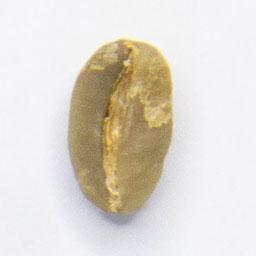longberry: (64, 35, 176, 219)
